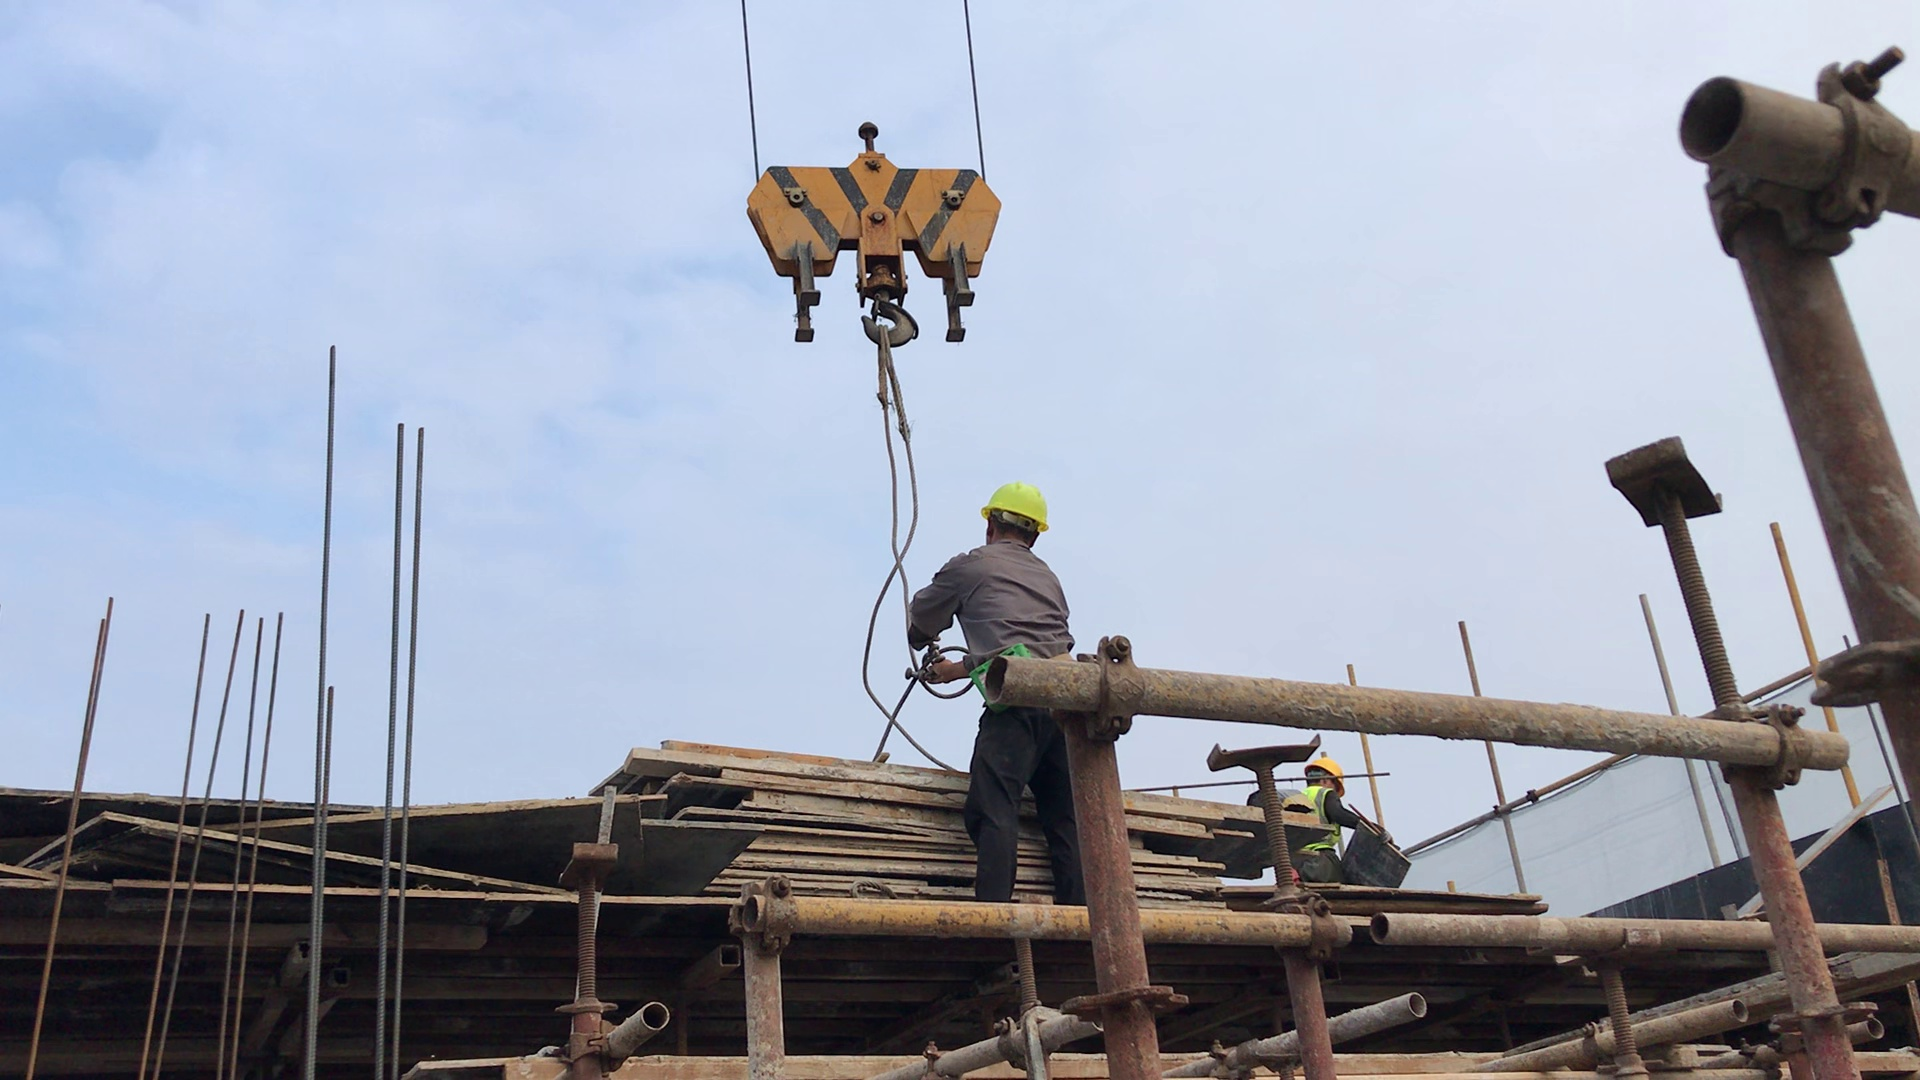board: (636, 745, 1261, 922)
helmet: (981, 480, 1047, 527), (1301, 753, 1343, 783)
hook: (746, 120, 1004, 343)
person: (909, 481, 1094, 908), (1274, 757, 1359, 896)
